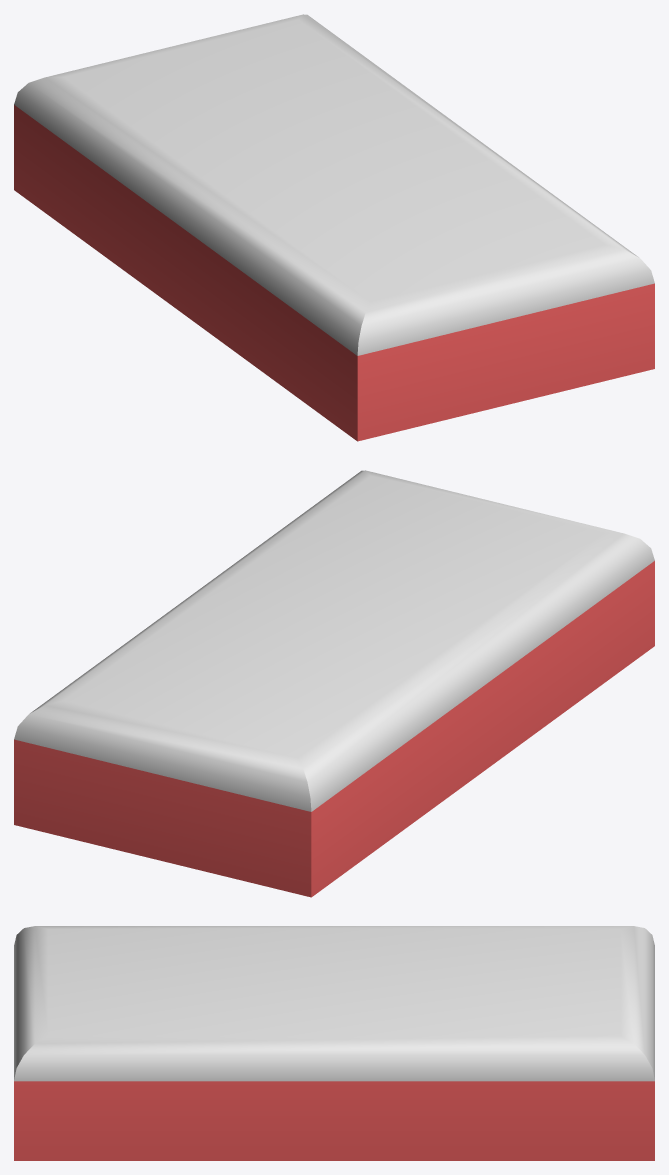
The model's file is CubeForTile_06.3.fbx.
3 renders of one model, top to bottom at view 1: azimuth 30°, elevation 25°; view 2: azimuth 150°, elevation 25°; view 3: azimuth 270°, elevation 25°, orthographic. The views are drawn at different scales.
Visible parts, largest first — view 1: CubeForTile_06.3; view 2: CubeForTile_06.3; view 3: CubeForTile_06.3.
Boxes of the visible parts, x1,y1,x2,y2 form: CubeForTile_06.3: [14, 14, 654, 441]; CubeForTile_06.3: [14, 470, 654, 897]; CubeForTile_06.3: [14, 926, 654, 1160].
Size of the model in its own units: 100 by 38.11 by 200.
